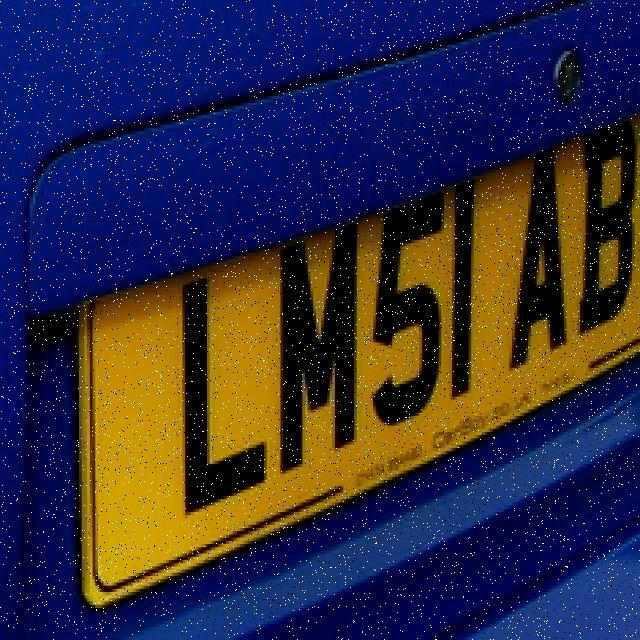LicensePlate: (62, 131, 640, 524)
